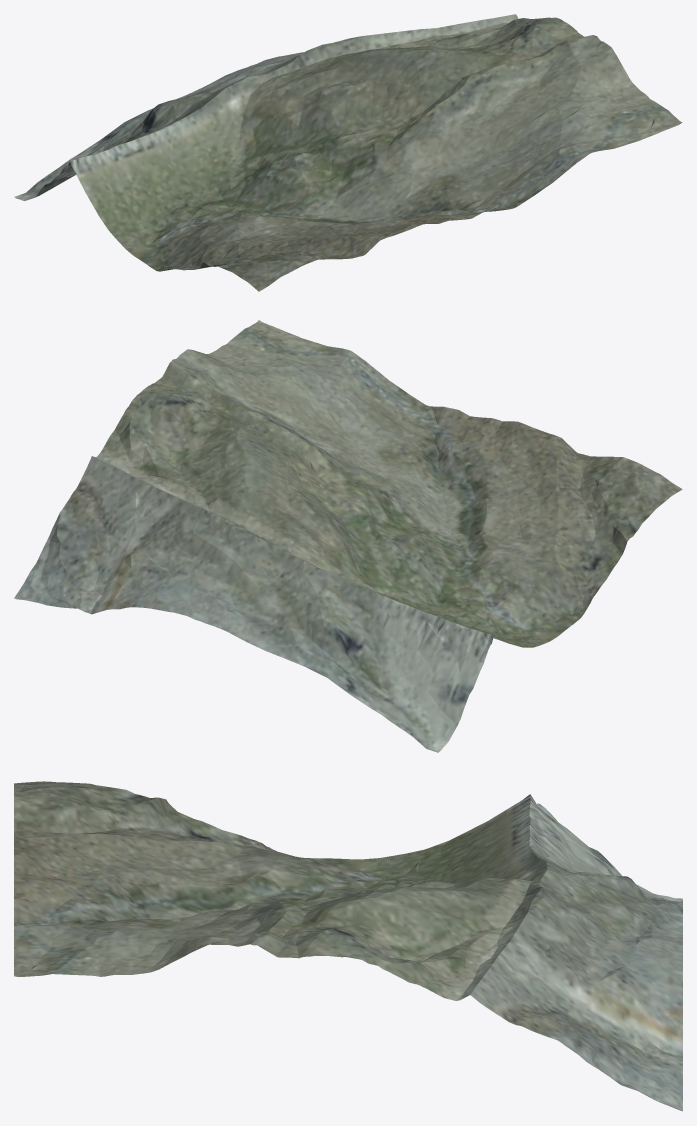
3 views of the same model, one above another, from view 1: azimuth 30°, elevation 25°; view 2: azimuth 150°, elevation 25°; view 3: azimuth 270°, elevation 25° (orthographic). The views are drawn at different scales.
Visible parts, largest first — view 1: Plane; view 2: Plane; view 3: Plane.
Part boxes in pixels (bbox=[...]): Plane: bbox=[14, 14, 682, 291]; Plane: bbox=[14, 320, 682, 752]; Plane: bbox=[14, 781, 682, 1111].
Size of the model in its own units: 0.6 by 0.2346 by 0.6.
1 material, 1 textured.
